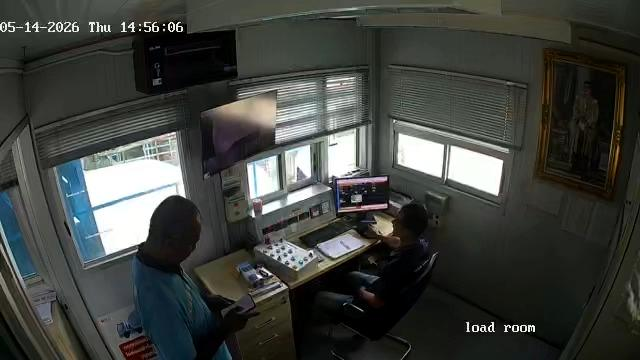Head: (151, 194, 203, 261), (394, 203, 425, 241)
People: (135, 194, 242, 360), (356, 200, 427, 295)
Phone: (221, 293, 256, 319)
